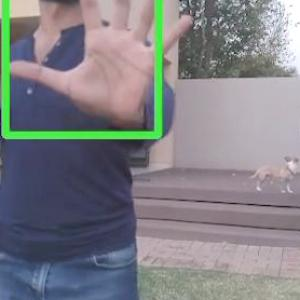follow_hand: (3, 0, 199, 130)
